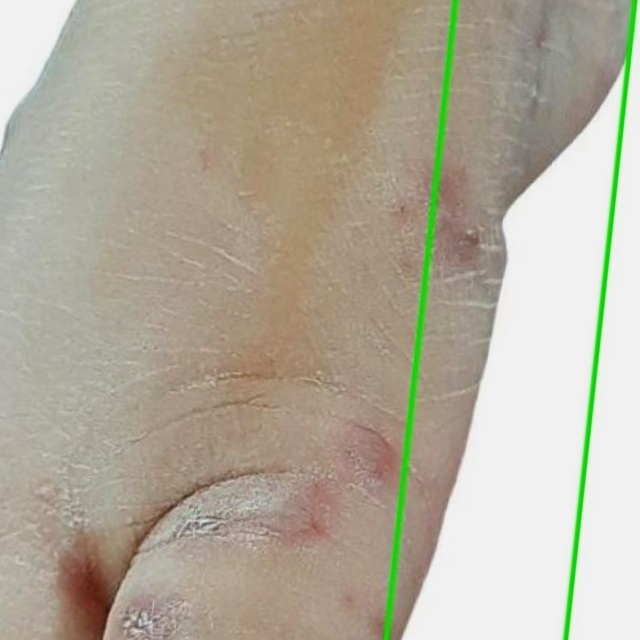Scabies: (0, 0, 635, 639), (386, 0, 639, 639)
